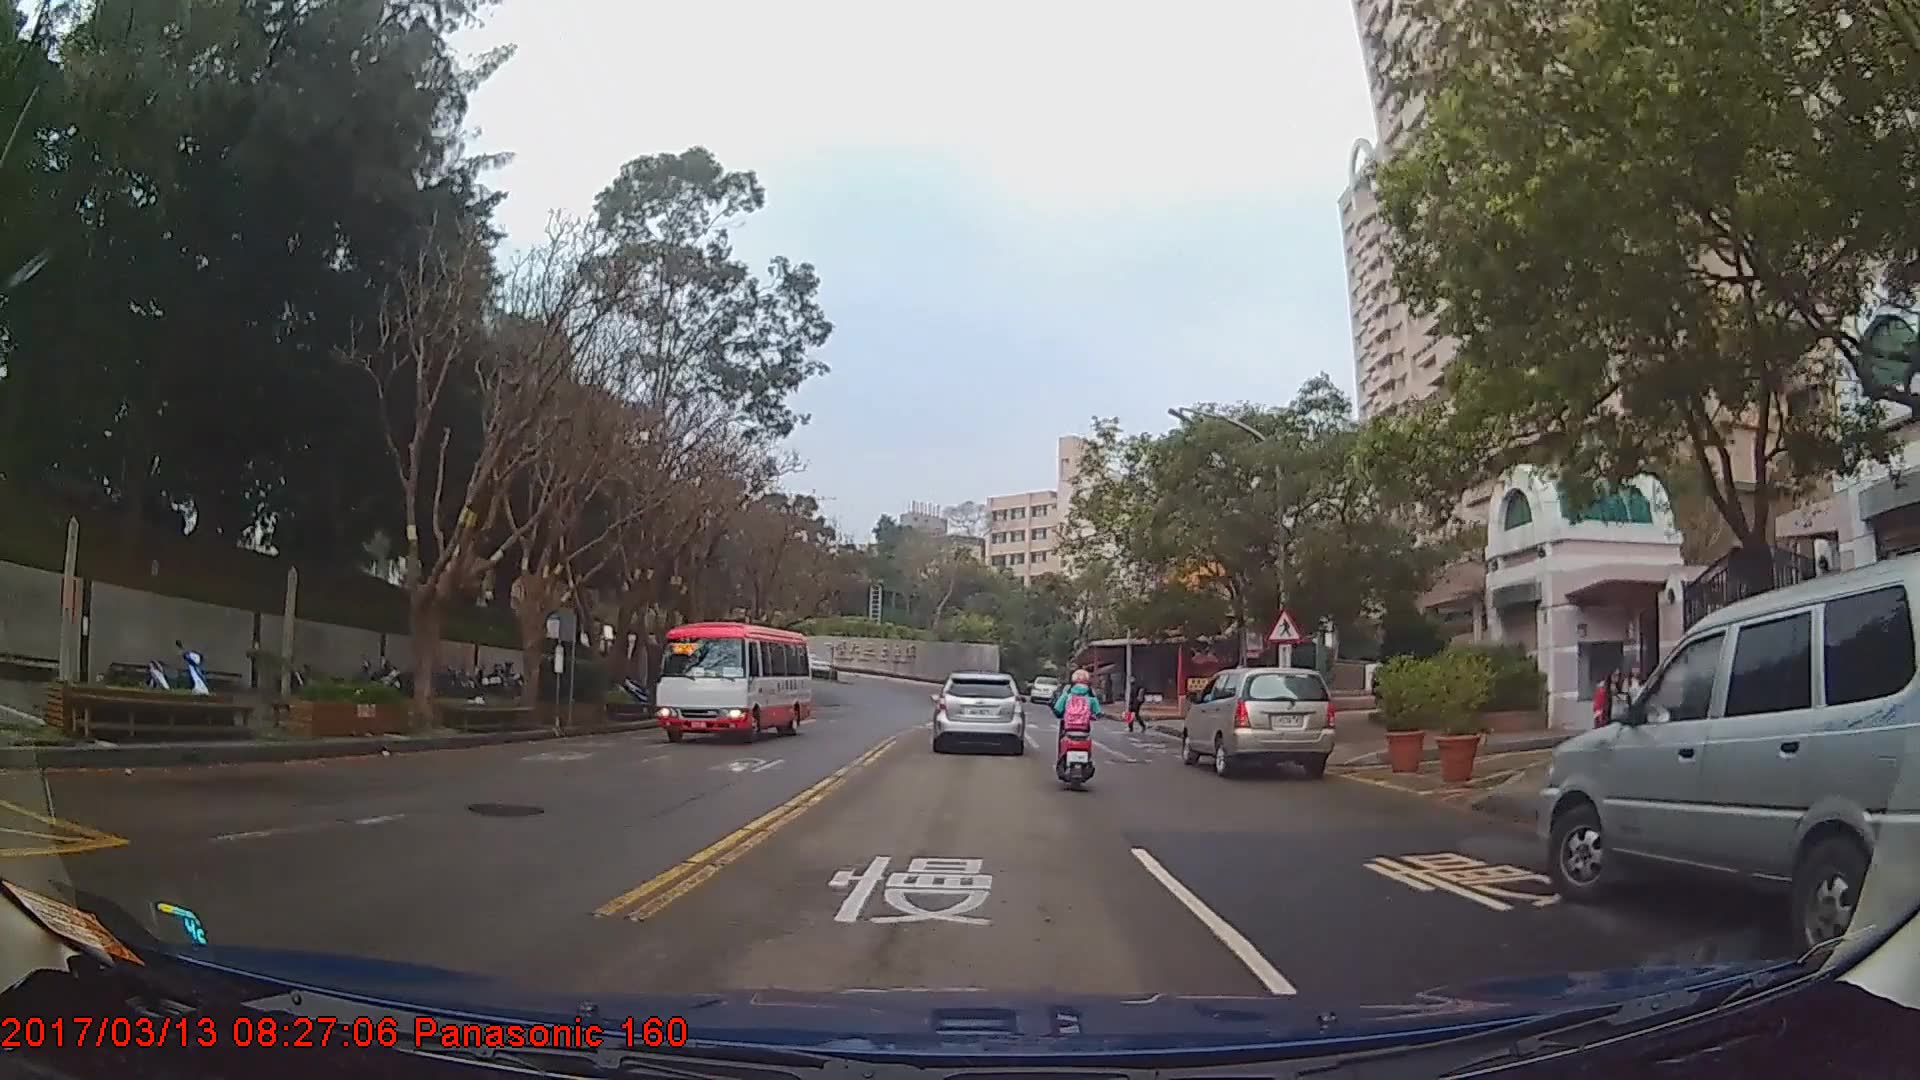pedestrian: (1124, 671, 1149, 737)
rider: (1052, 664, 1107, 794)
vehicle: (1539, 553, 1920, 955), (655, 621, 813, 743), (1179, 666, 1335, 778), (928, 673, 1025, 756), (1028, 675, 1060, 702)
